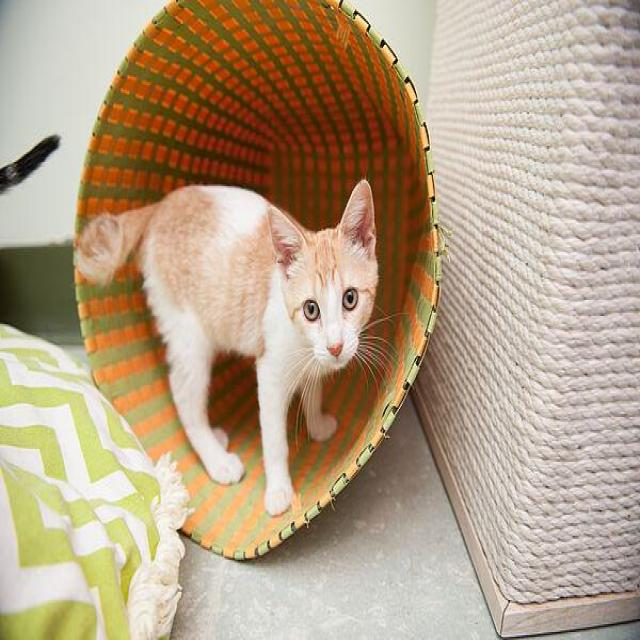Cat: (259, 173, 386, 377)
